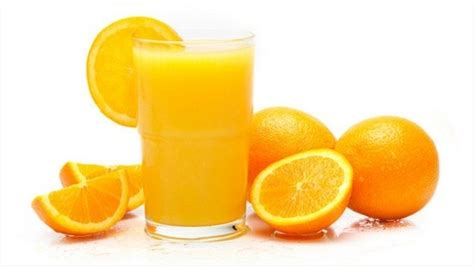orange: (336, 114, 440, 225)
